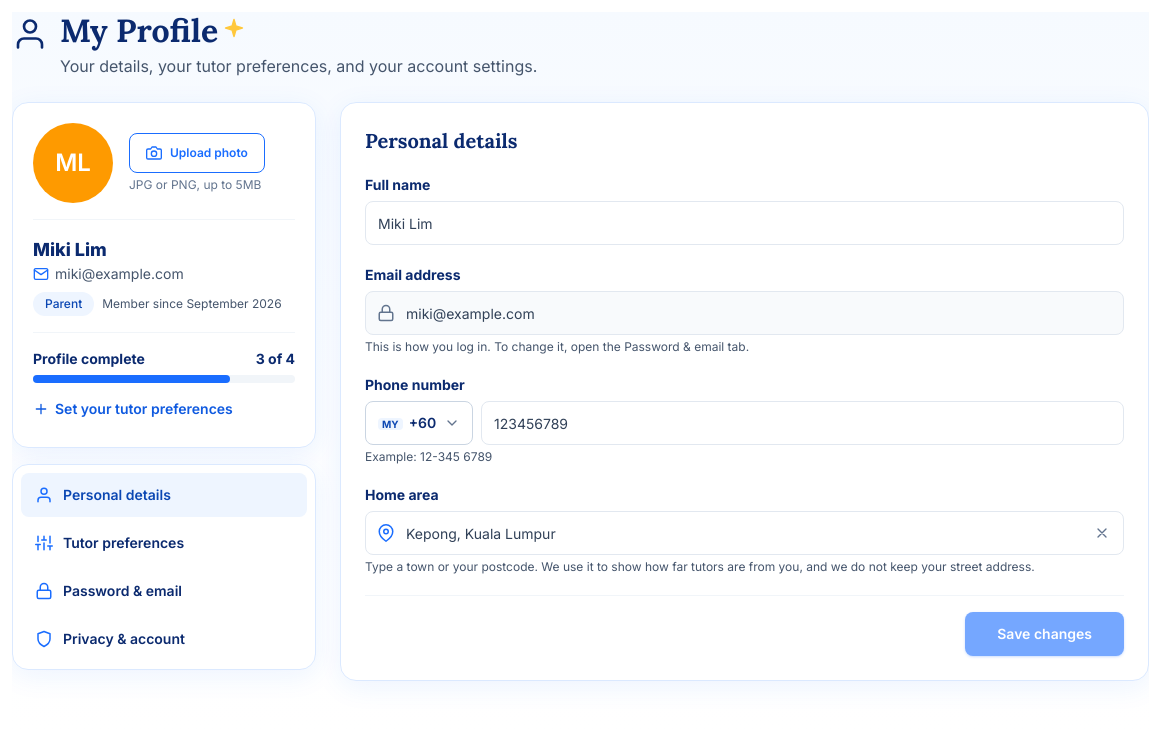
Test: password › a Google account is told it has no password
Expected: the heading "Personal details" is shown, [365, 128, 517, 153]
Click the tab "Password & email".
click(164, 591)  # box [21, 569, 307, 613]
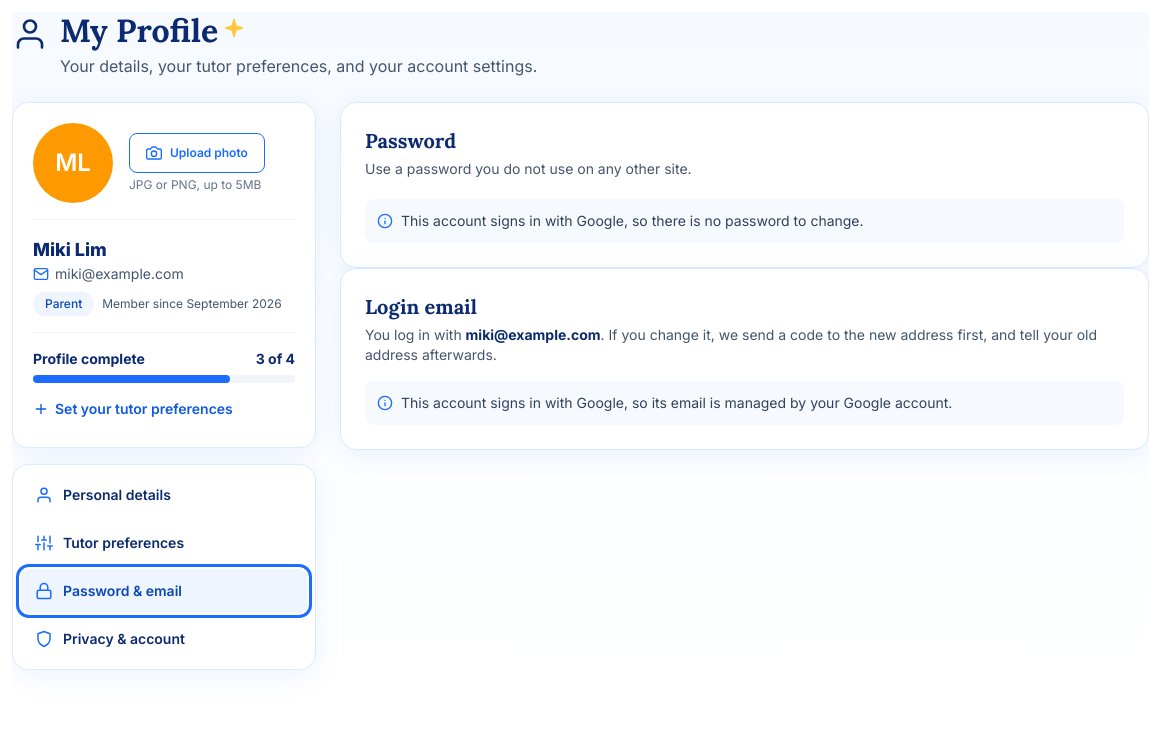
Now the text "no password to change" is shown, box [401, 212, 864, 229]
